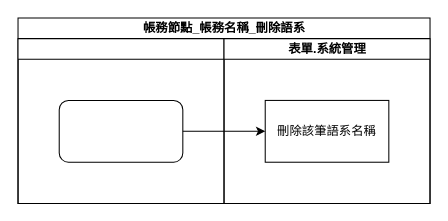
Image size: 448x221. Some labels were removed from this diagram. The box of each missing label's shape, as (x1, y1, x2, y2) in pixels:
Site管理員: (17, 38, 224, 203)
點擊按鈕.刪除語系: (58, 99, 183, 162)
